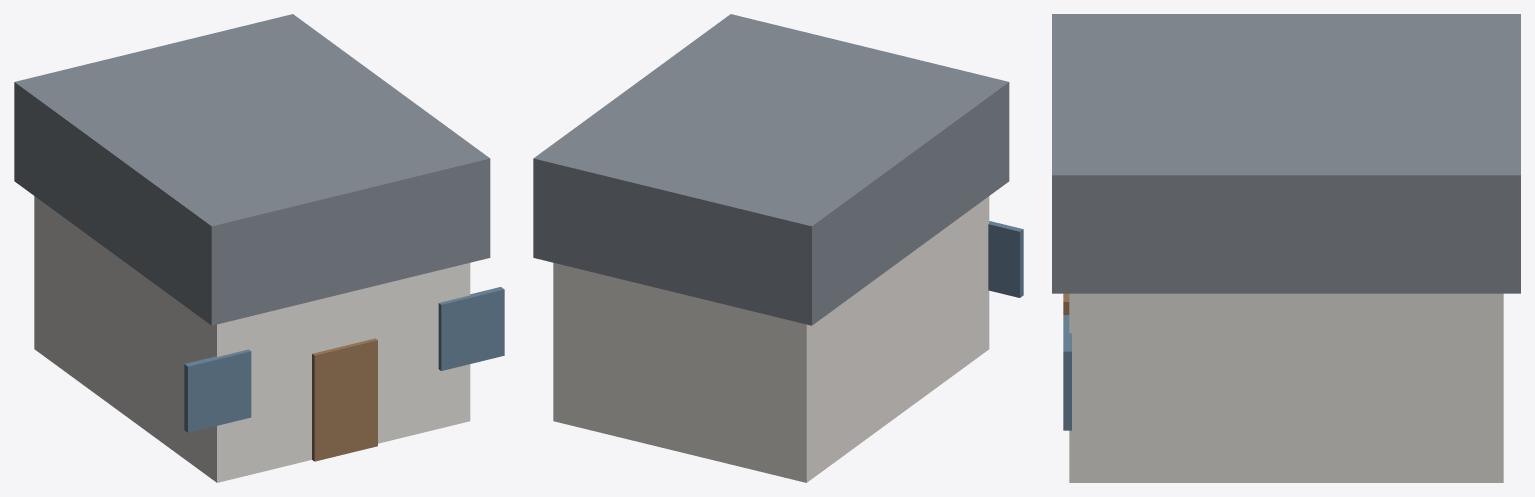
File: bahay.fbx
3 views of the same model, side by side, from view 1: azimuth 30°, elevation 25°; view 2: azimuth 150°, elevation 25°; view 3: azimuth 270°, elevation 25° (orthographic). The views are drawn at different scales.
Parts seen in each view (by area): view 1: House_Roof, House_Walls, Front_Door, House_Window, House_Window.001; view 2: House_Roof, House_Walls, House_Window; view 3: House_Roof, House_Walls, House_Window.001.
Part boxes in pixels (x1=…): House_Roof: x1=14, y1=14, x2=490, y2=325; House_Walls: x1=34, y1=196, x2=470, y2=482; Front_Door: x1=312, y1=338, x2=377, y2=461; House_Window: x1=184, y1=349, x2=251, y2=432; House_Window.001: x1=438, y1=287, x2=504, y2=370; House_Roof: x1=533, y1=14, x2=1009, y2=325; House_Walls: x1=553, y1=196, x2=989, y2=482; House_Window: x1=988, y1=221, x2=1023, y2=297; House_Roof: x1=1052, y1=14, x2=1520, y2=293; House_Walls: x1=1069, y1=293, x2=1503, y2=482; House_Window.001: x1=1063, y1=315, x2=1071, y2=430.
Bounding box in the file's own units: 500 × 400 × 540.
